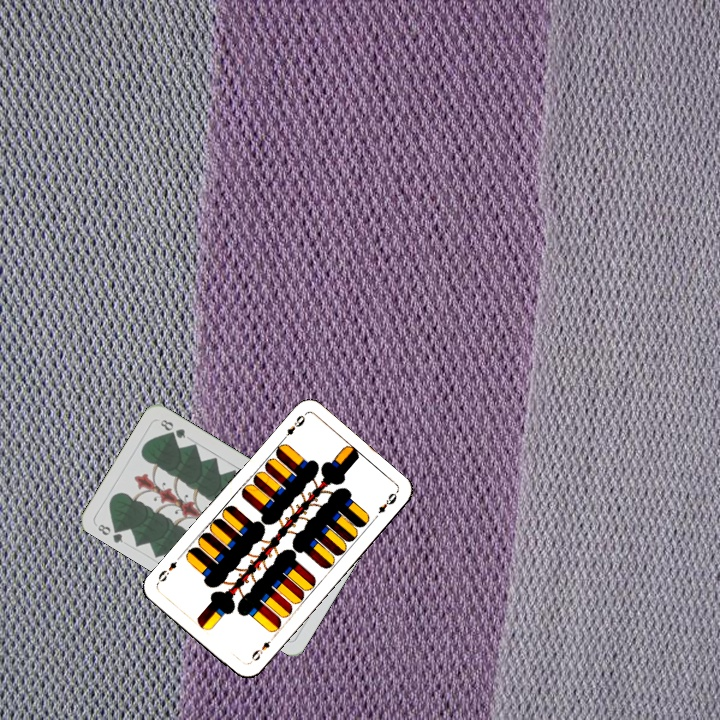E9: (277, 410, 308, 444), (246, 637, 273, 666)
G8: (93, 520, 126, 545)
